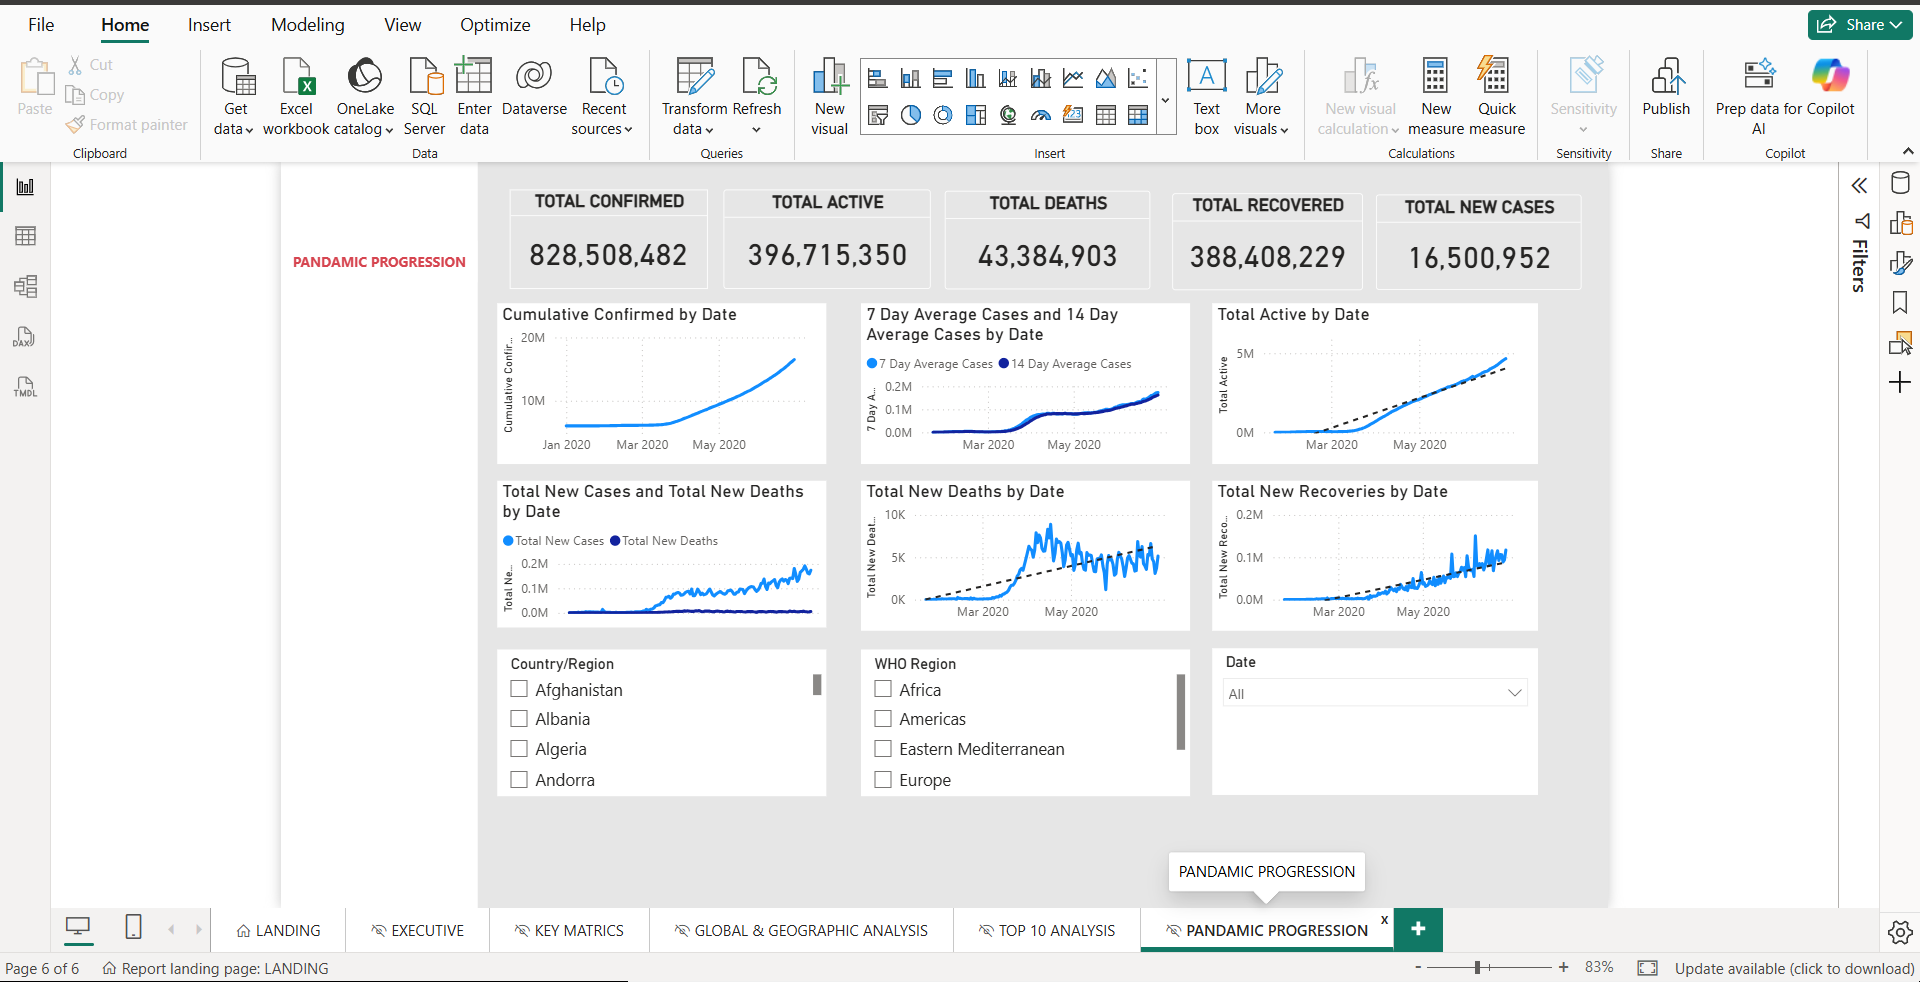

The dashboard page shown, as its layout file describes it:
{"tool":"powerbi","page":{"name":"PANDAMIC PROGRESSION","canvas":[1280,720],"ordinal":5},"visuals":[{"type":"shape","box":[0,0,189.8,1079.5],"z":0},{"type":"card","title":"TOTAL CONFIRMED","fields":{"Values":["Measure Table.Total Confirmed"]},"box":[220.9,26.7,191.3,96.4],"z":1000},{"type":"card","title":"TOTAL ACTIVE","fields":{"Values":["Measure Table.Total Active"]},"box":[427.1,26.7,200.2,96.4],"z":2000},{"type":"card","title":"TOTAL NEW CASES","fields":{"Values":["Measure Table.Total New Cases"]},"box":[1057.3,31.1,198.7,91.9],"z":3000},{"type":"card","title":"TOTAL RECOVERED","fields":{"Values":["Measure Table.Total Recovered"]},"box":[860.1,29.7,183.9,93.4],"z":4000},{"type":"card","title":"TOTAL DEATHS","fields":{"Values":["Measure Table.Total Deaths"]},"box":[640.6,28.2,198.7,94.9],"z":5000},{"type":"actionButton","box":[0,75.6,189.8,40],"z":6000},{"type":"lineChart","fields":{"Y":["Measure Table.Cumulative Confirmed"],"Category":["Date Table.Calendar Year","Date Table.Quarter - Year","Date Table.Month - Year","Date Table.Week - Year","Date Table.Date"]},"box":[209.2,136.7,317.9,154.8],"z":7000},{"type":"lineChart","fields":{"Category":["Date Table.Calendar Year","Date Table.Quarter - Year","Date Table.Month - Year","Date Table.Week - Year","Date Table.Date"],"Y":["Measure Table.7 Day Average Cases","Measure Table.14 Day Average Cases"]},"box":[560,136.7,317.9,154.8],"z":8000},{"type":"lineChart","fields":{"Category":["Date Table.Calendar Year","Date Table.Quarter - Year","Date Table.Month - Year","Date Table.Week - Year","Date Table.Date"],"Y":["Measure Table.Total Active"]},"box":[899.2,136.7,314.6,154.8],"z":9000},{"type":"lineChart","fields":{"Category":["Date Table.Calendar Year","Date Table.Quarter - Year","Date Table.Month - Year","Date Table.Week - Year","Date Table.Date"],"Y":["Measure Table.Total New Cases","Measure Table.Total New Deaths"]},"box":[209.2,308,317.9,141.6],"z":10000},{"type":"lineChart","fields":{"Category":["Date Table.Calendar Year","Date Table.Quarter - Year","Date Table.Month - Year","Date Table.Week - Year","Date Table.Date"],"Y":["Measure Table.Total New Deaths"]},"box":[560,308,317.9,144.9],"z":11000},{"type":"lineChart","fields":{"Category":["Date Table.Calendar Year","Date Table.Quarter - Year","Date Table.Month - Year","Date Table.Week - Year","Date Table.Date"],"Y":["Measure Table.Total New Recoveries"]},"box":[899.2,308,314.6,144.9],"z":12000},{"type":"slicer","fields":{"Values":["full_grouped.Country/Region"]},"box":[209.2,471,317.9,141.6],"z":13000},{"type":"slicer","fields":{"Values":["full_grouped.WHO Region"]},"box":[560,471,317.9,141.6],"z":14000},{"type":"slicer","fields":{"Values":["Date Table.Date"]},"box":[899.2,469.4,314.6,141.6],"z":15000}]}

Visuals, with their boxes on the page's 1280x720 design canvas (x1, y1, x2, y2). These are canvas units, not pixel positions in the 1920x982 screenshot, which may show the page scaled, cropped or inside an application window:
shape: (0, 0, 190, 1080)
"TOTAL CONFIRMED" card: (221, 27, 412, 123)
"TOTAL ACTIVE" card: (427, 27, 627, 123)
"TOTAL NEW CASES" card: (1057, 31, 1256, 123)
"TOTAL RECOVERED" card: (860, 30, 1044, 123)
"TOTAL DEATHS" card: (641, 28, 839, 123)
actionButton: (0, 76, 190, 116)
lineChart - Measure Table.Cumulative Confirmed x Date Table.Calendar Year: (209, 137, 527, 292)
lineChart - Date Table.Calendar Year x Date Table.Quarter - Year: (560, 137, 878, 292)
lineChart - Date Table.Calendar Year x Date Table.Quarter - Year: (899, 137, 1214, 292)
lineChart - Date Table.Calendar Year x Date Table.Quarter - Year: (209, 308, 527, 450)
lineChart - Date Table.Calendar Year x Date Table.Quarter - Year: (560, 308, 878, 453)
lineChart - Date Table.Calendar Year x Date Table.Quarter - Year: (899, 308, 1214, 453)
slicer - full_grouped.Country/Region: (209, 471, 527, 613)
slicer - full_grouped.WHO Region: (560, 471, 878, 613)
slicer - Date Table.Date: (899, 469, 1214, 611)
